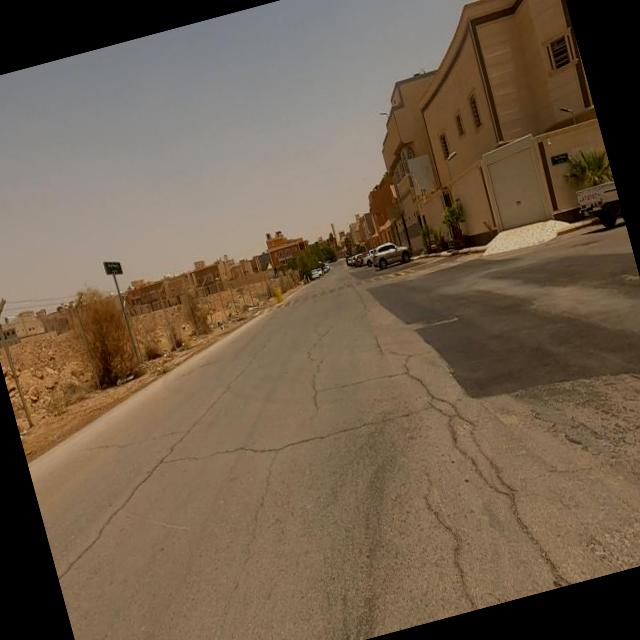debris: (88, 350, 162, 414), (204, 302, 245, 351)
